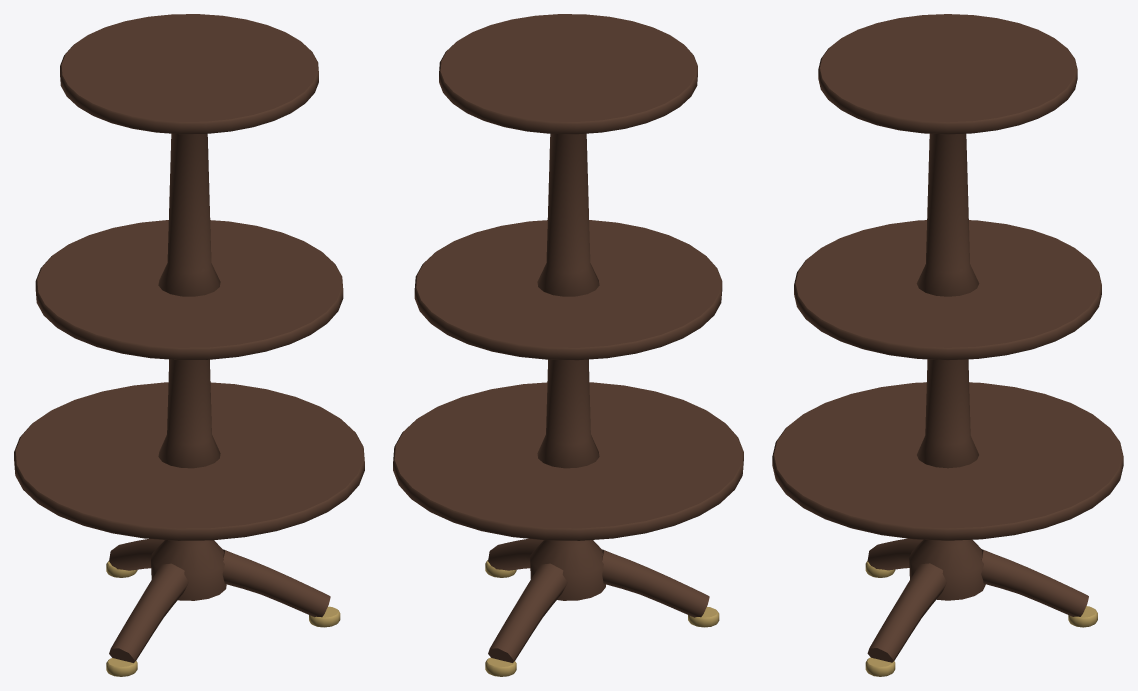
The model's file is rpg-mansion-three-tier-dumbwaiter-01.glb.
3 views of the same model, side by side, from view 1: azimuth 30°, elevation 25°; view 2: azimuth 150°, elevation 25°; view 3: azimuth 270°, elevation 25° (orthographic).
Parts seen in each view (by area): view 1: rpg-mansion-three-tier-dumbwaiter-01; view 2: rpg-mansion-three-tier-dumbwaiter-01; view 3: rpg-mansion-three-tier-dumbwaiter-01.
Boxes of the visible parts, x1=… form: rpg-mansion-three-tier-dumbwaiter-01: x1=14, y1=14, x2=364, y2=676; rpg-mansion-three-tier-dumbwaiter-01: x1=393, y1=14, x2=743, y2=676; rpg-mansion-three-tier-dumbwaiter-01: x1=772, y1=14, x2=1123, y2=676.
Size of the model in its own units: 0.65 by 1.13 by 0.65.
